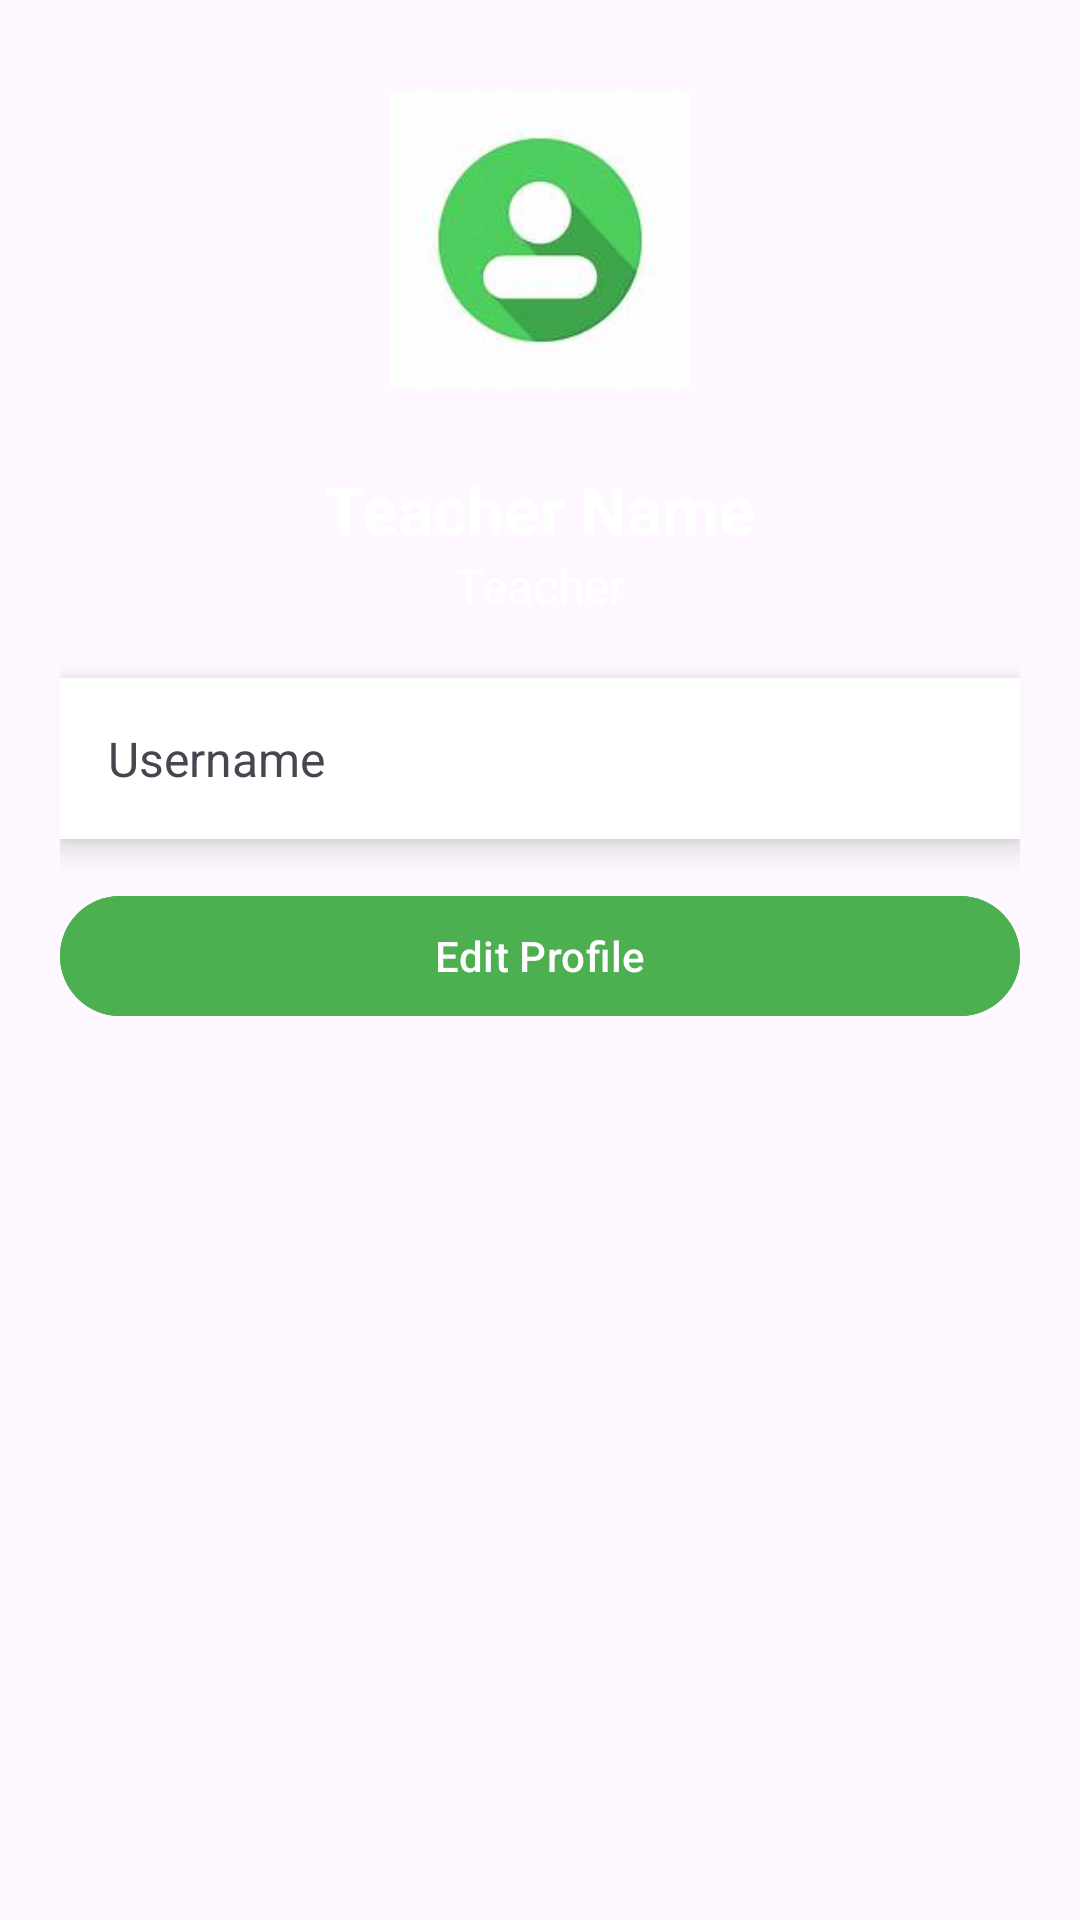

Screen size 1080px×1920px. Icon name, then its center in pixels as point (x, y):
profile: point (539, 239)
